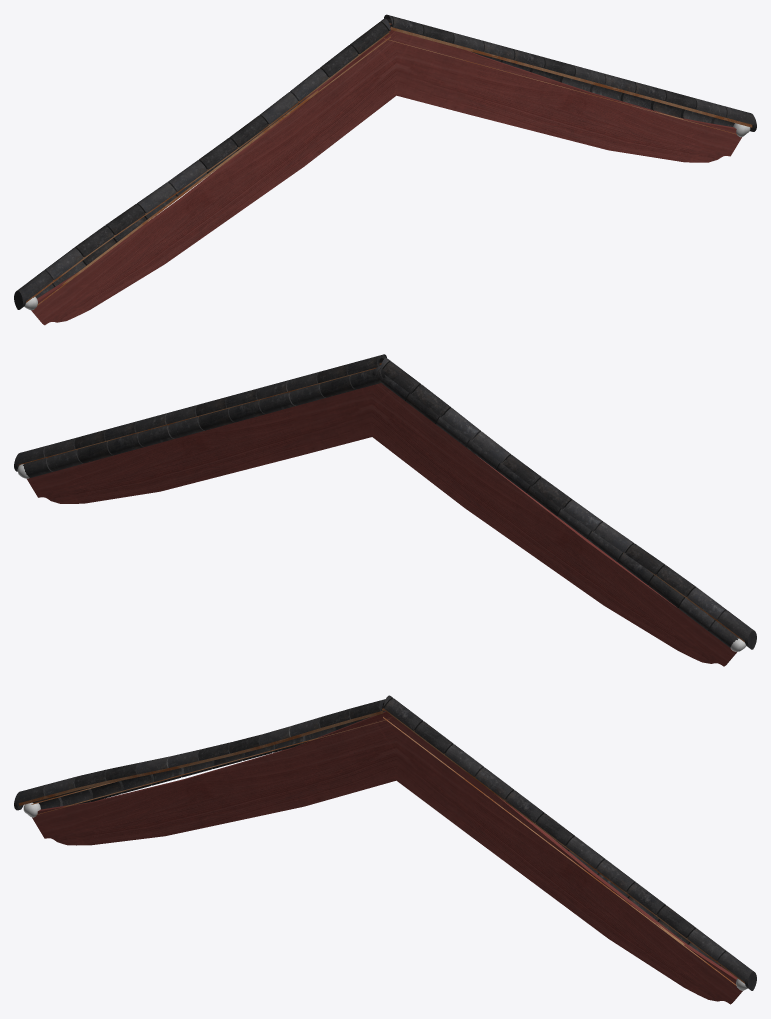
File: SM_Giwa05E_a4.fbx
3 renders of one model, top to bottom at view 1: azimuth 30°, elevation 25°; view 2: azimuth 150°, elevation 25°; view 3: azimuth 330°, elevation 25°, orthographic.
Visible parts, largest first — view 1: SM_Giwa05E_a4; view 2: SM_Giwa05E_a4; view 3: SM_Giwa05E_a4.
Boxes of the visible parts, box(x1,y1,x2,y2) form: SM_Giwa05E_a4: box(14, 14, 756, 325); SM_Giwa05E_a4: box(14, 354, 756, 666); SM_Giwa05E_a4: box(14, 695, 756, 1004).
Size of the model in its own units: 668 by 15.79 by 198.
